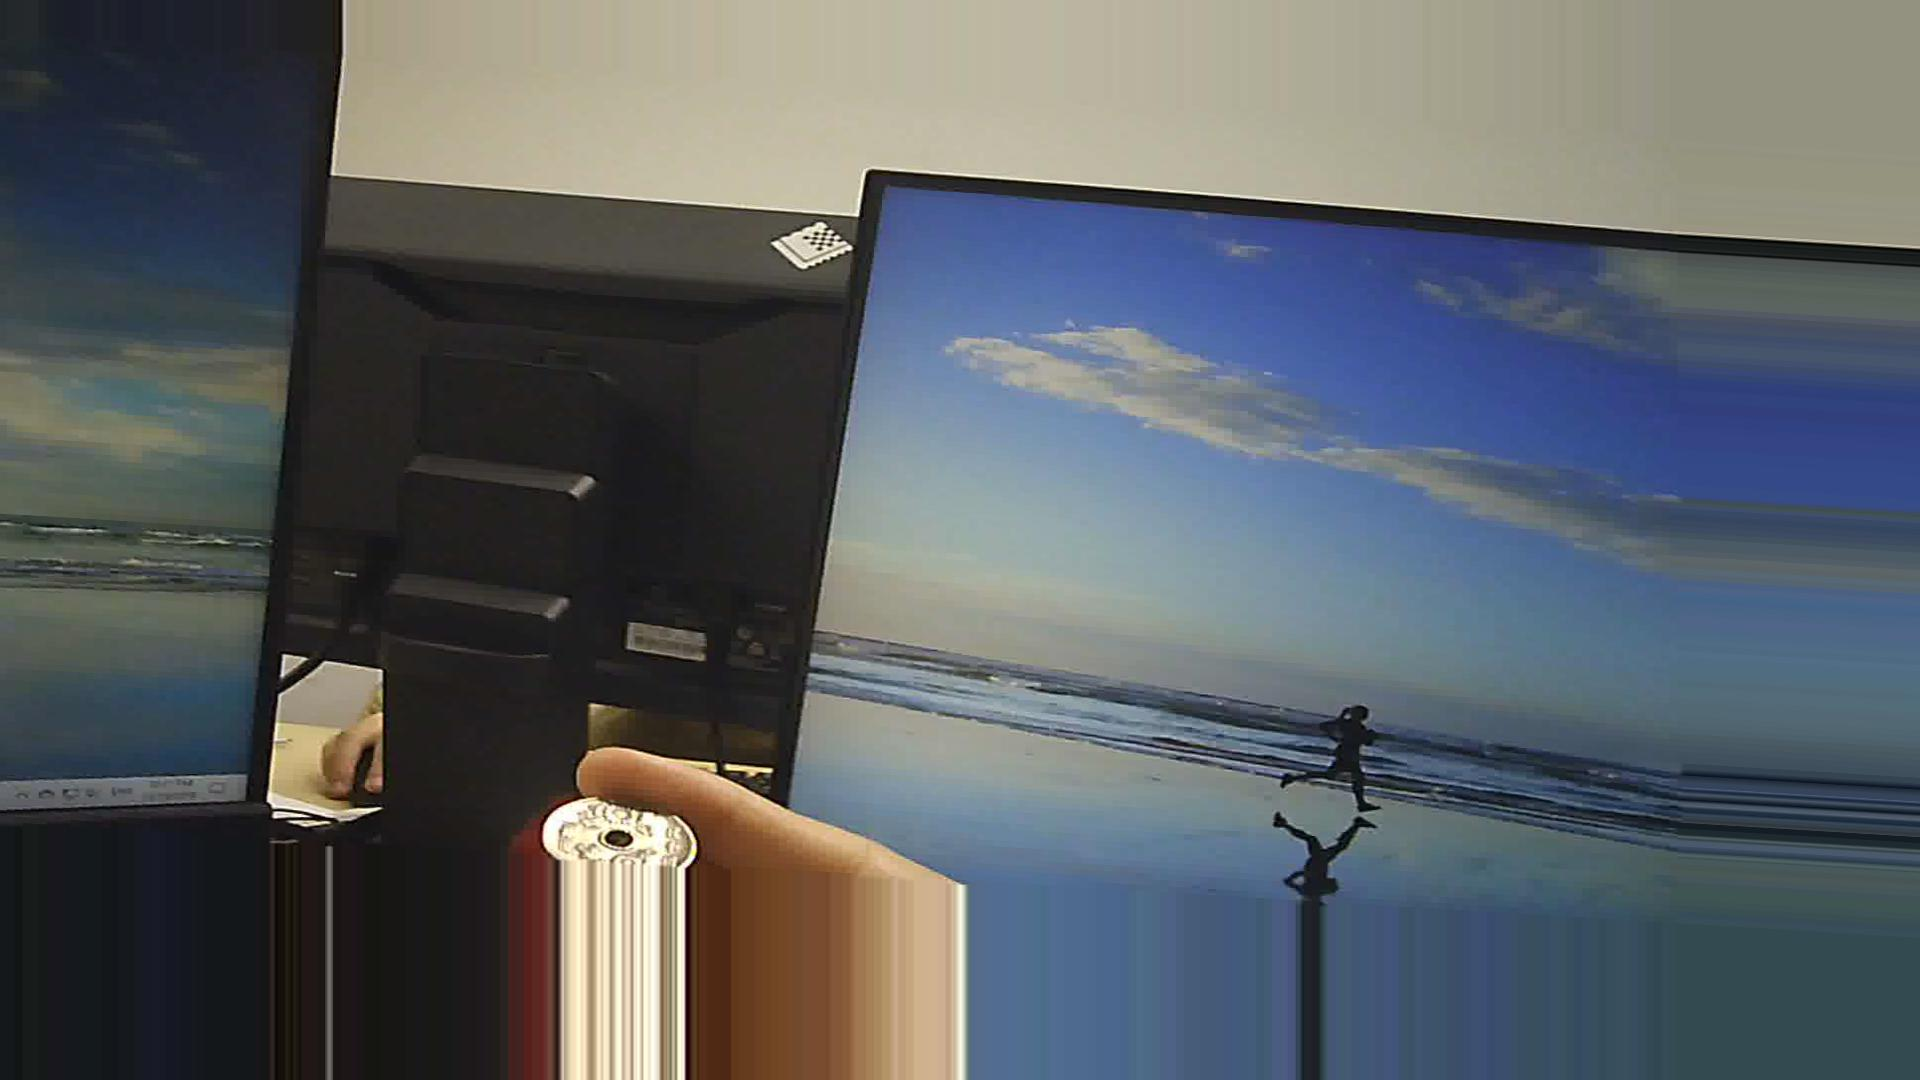50 Yen: (527, 785, 707, 876)
